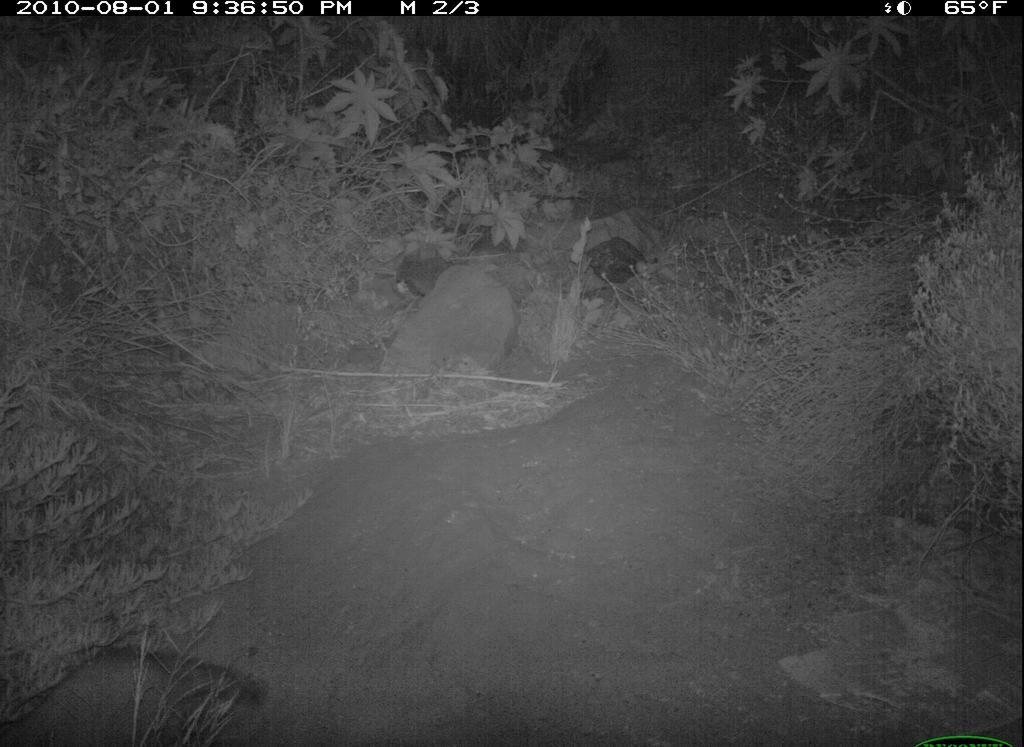raccoon: (7, 638, 273, 747)
